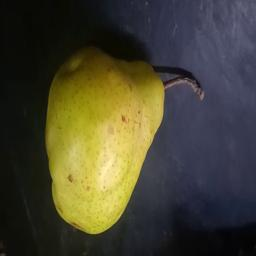Pear Rotten: (34, 5, 226, 256)
